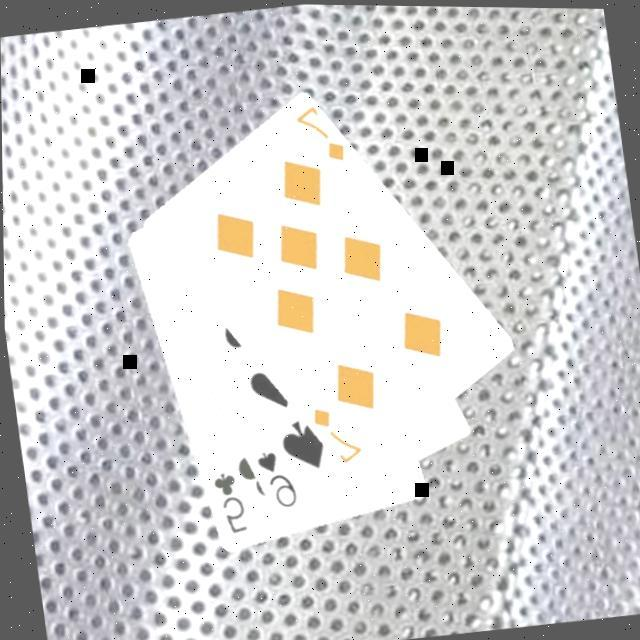5C: (208, 468, 250, 540)
7D: (306, 400, 366, 470), (291, 100, 349, 172)
9S: (251, 445, 301, 515)
